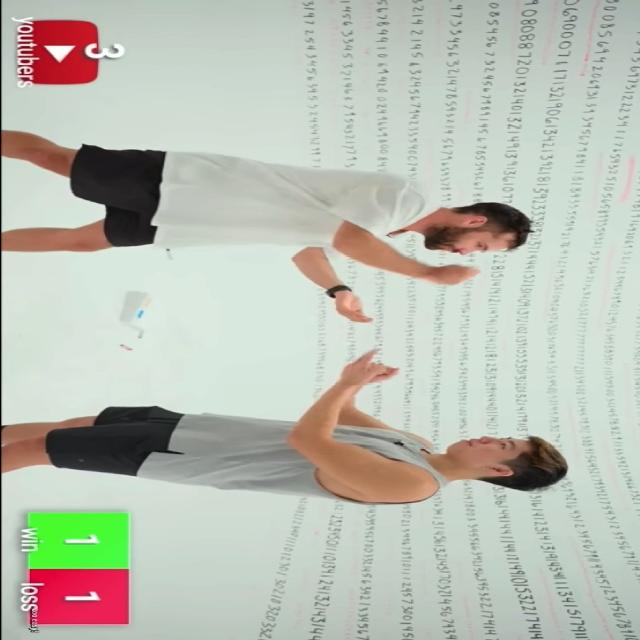Rock: (421, 264, 476, 286), (373, 362, 403, 380)
